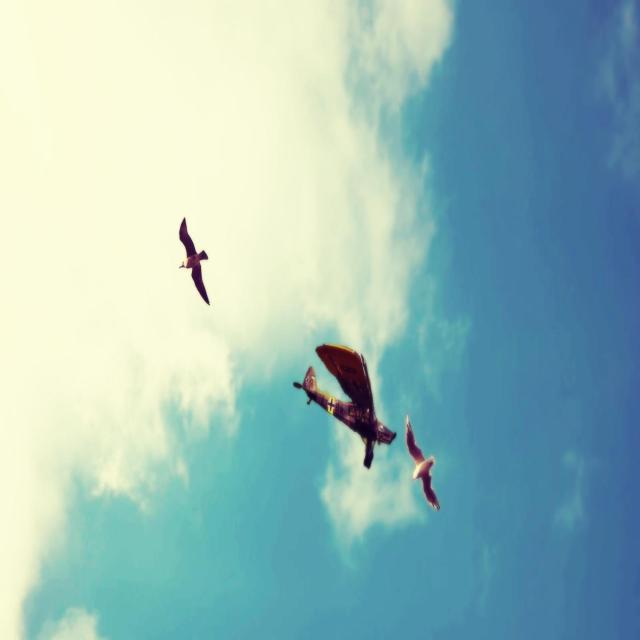airplane: (293, 342, 397, 469)
